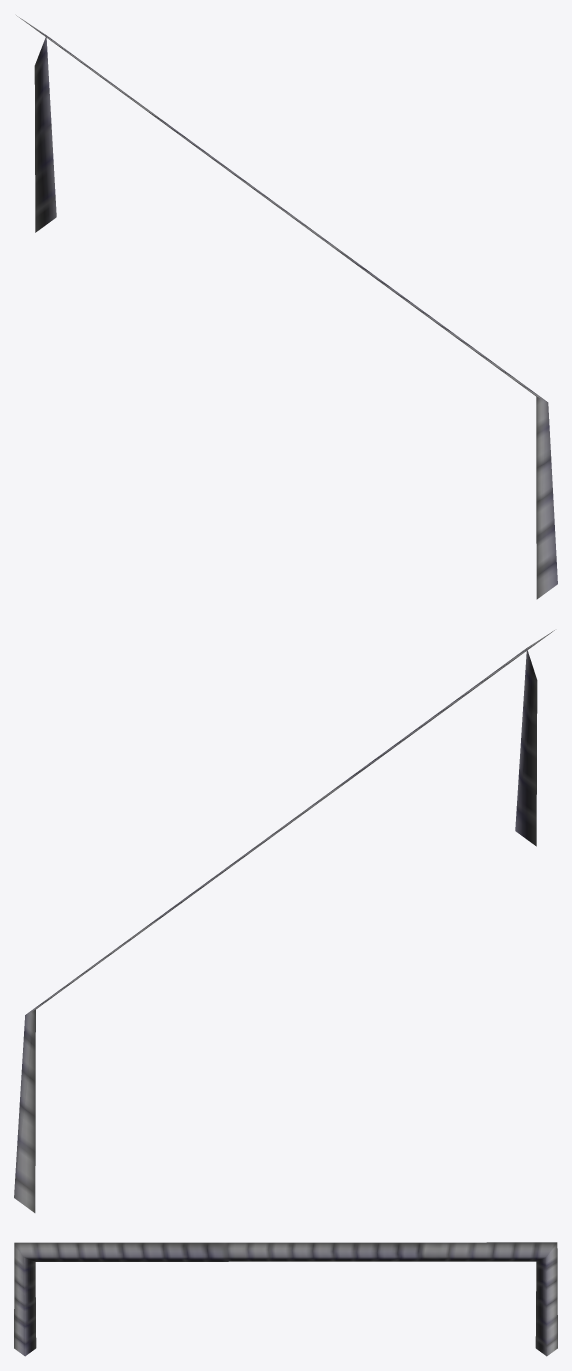
The picture shows the model from 3 angles, top to bottom: view 1: azimuth 30°, elevation 25°; view 2: azimuth 150°, elevation 25°; view 3: azimuth 270°, elevation 25°; orthographic projection. The views are drawn at different scales.
Visible parts, largest first — view 1: Cylinder01; view 2: Cylinder01; view 3: Cylinder01.
Boxes of the visible parts, x1,y1,x2,y2 form: Cylinder01: (16, 15, 557, 599); Cylinder01: (14, 630, 554, 1212); Cylinder01: (14, 1242, 557, 1356).
Bounding box in the file's own units: 20.54 × 125 × 580.
Materials: 1 (1 with a texture image).
